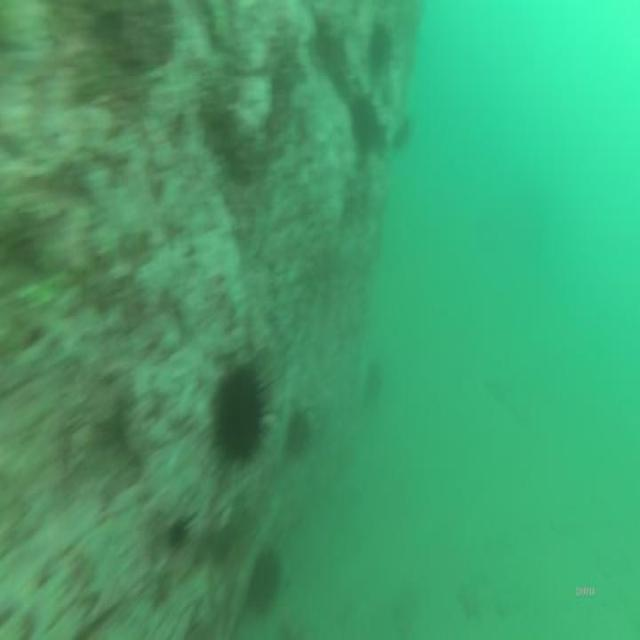echinus: (216, 363, 263, 463), (253, 552, 279, 612), (353, 101, 377, 153), (285, 408, 307, 455), (369, 25, 388, 76)
